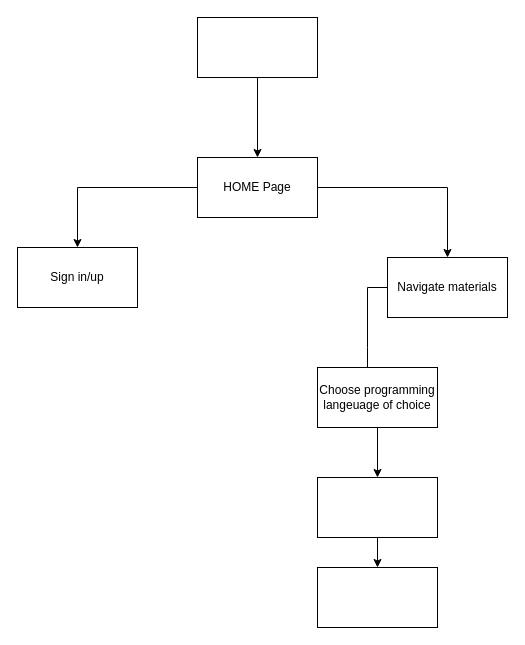
Some shapes in this 525 by 645 pixel diagram are drawn without their labels. Each missing label, with the centre of its shape:
Learn: point (377, 507)
LearnIT: point (257, 47)
